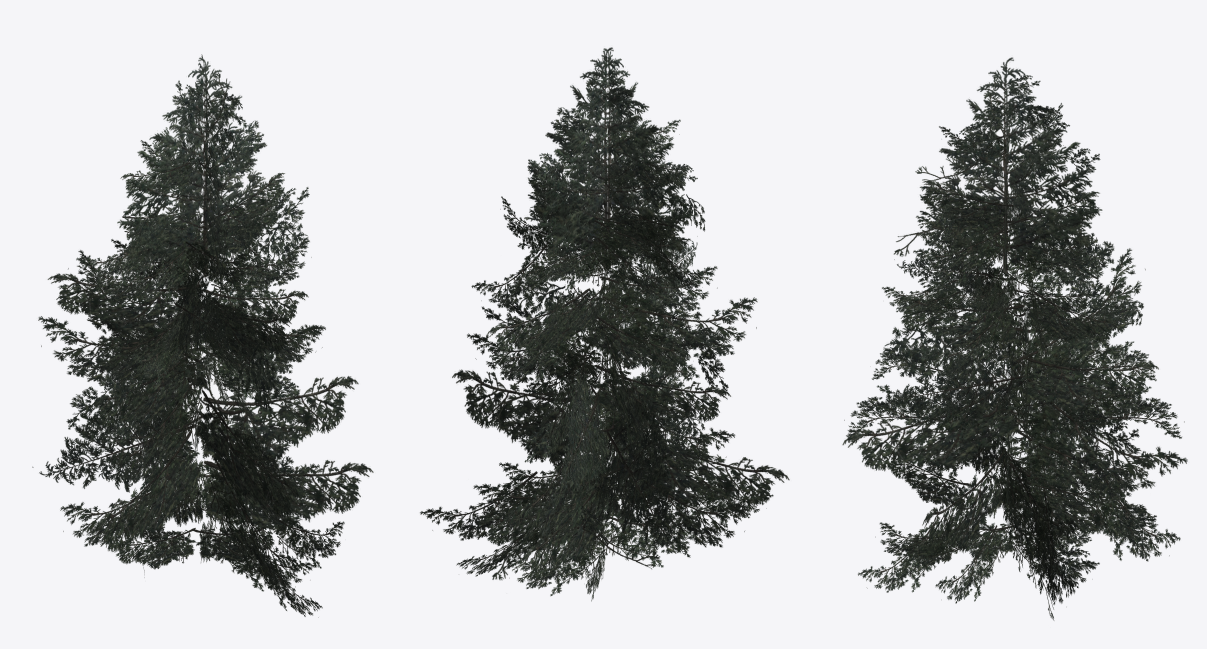
File: forest_pine_04.glb
The picture shows the model from 3 angles, left to right: view 1: azimuth 30°, elevation 25°; view 2: azimuth 150°, elevation 25°; view 3: azimuth 270°, elevation 25°; orthographic projection. The views are drawn at different scales.
Visible parts, largest first — view 1: Tree_Branches_01.002_Tree_Branches_01_0; view 2: Tree_Branches_01.002_Tree_Branches_01_0; view 3: Tree_Branches_01.002_Tree_Branches_01_0.
Boxes of the visible parts, x1=… form: Tree_Branches_01.002_Tree_Branches_01_0: x1=32, y1=54, x2=373, y2=617; Tree_Branches_01.002_Tree_Branches_01_0: x1=420, y1=47, x2=789, y2=601; Tree_Branches_01.002_Tree_Branches_01_0: x1=842, y1=57, x2=1187, y2=620.
Size of the model in its own units: 2.42 by 4 by 2.43.
Materials: 1 (1 with a texture image).
